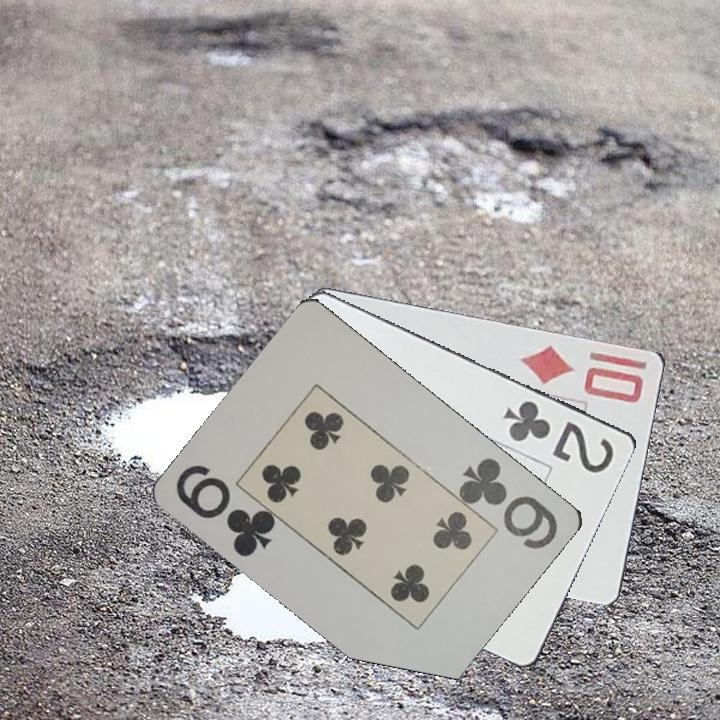2c: (500, 396, 618, 476)
6c: (172, 461, 280, 560), (456, 453, 562, 553)
Td: (517, 341, 647, 406)
